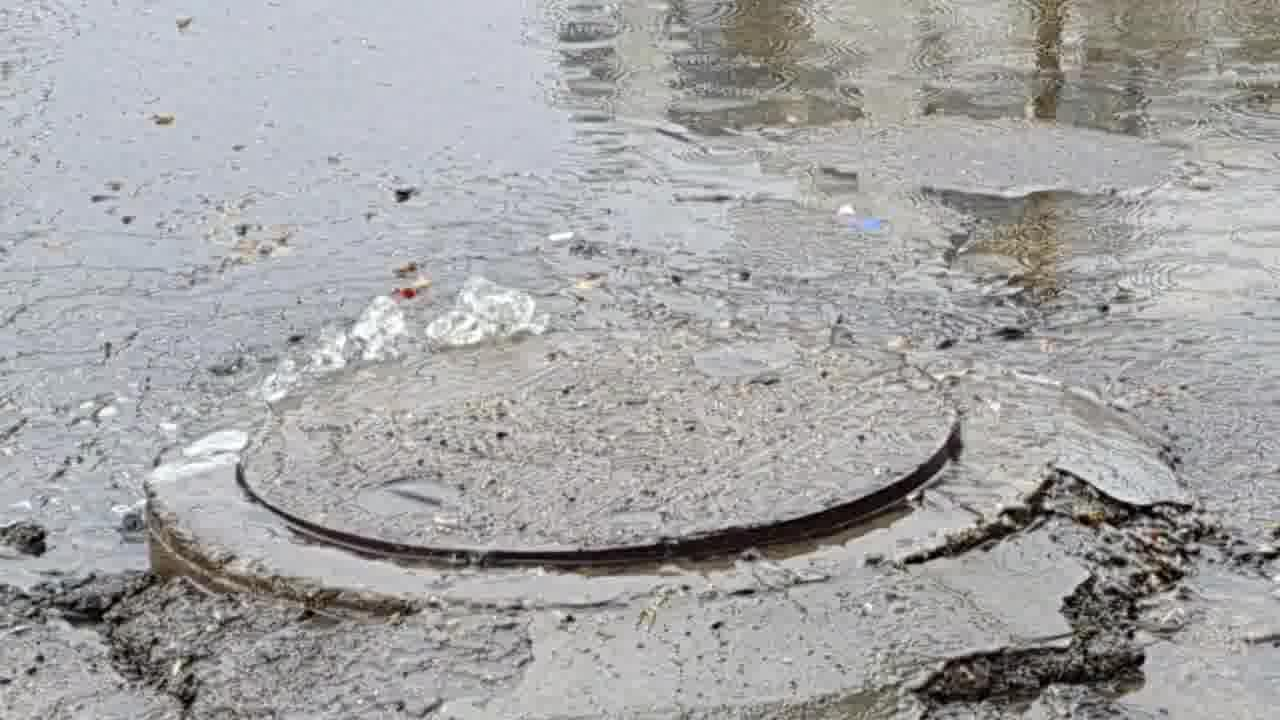drainage overflow-repair-: (5, 210, 966, 583)
